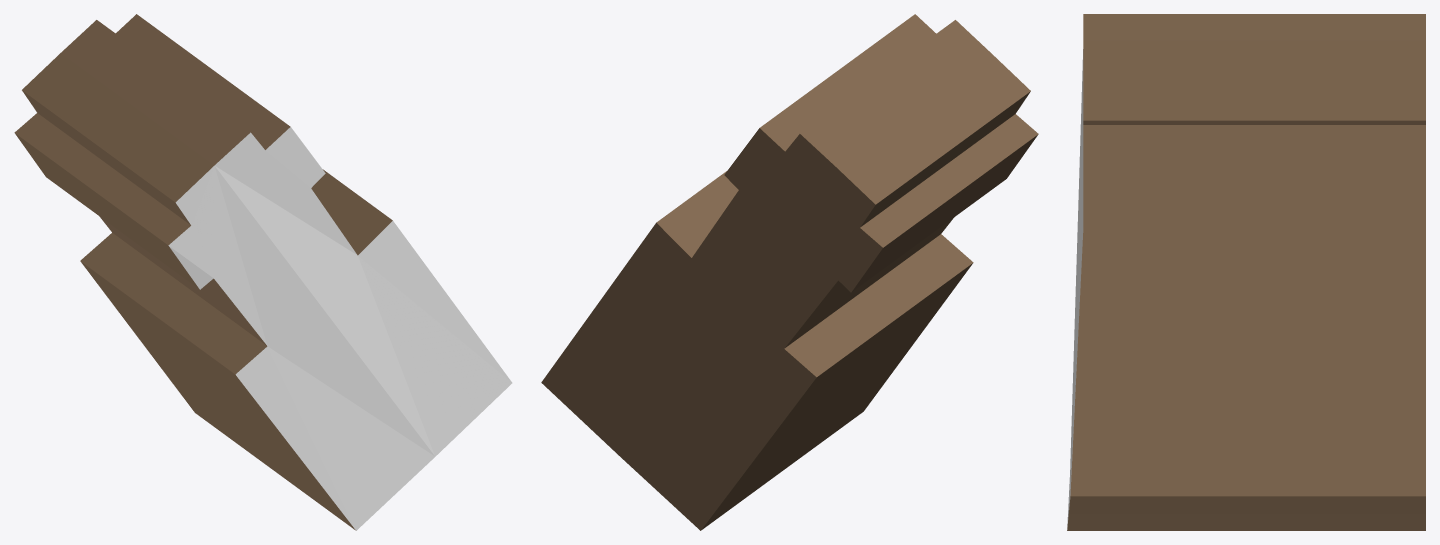
The picture shows the model from 3 angles, left to right: view 1: azimuth 30°, elevation 25°; view 2: azimuth 150°, elevation 25°; view 3: azimuth 270°, elevation 25°; orthographic projection. The views are drawn at different scales.
Parts seen in each view (by area): view 1: City_1885068; view 2: City_1885068; view 3: City_1885068.
Part boxes in pixels (<box>): City_1885068: <box>14,14,512,530</box>; City_1885068: <box>541,14,1038,530</box>; City_1885068: <box>1067,14,1425,530</box>.
Bounding box in the file's own units: 1875 × 2209 × 1549.
